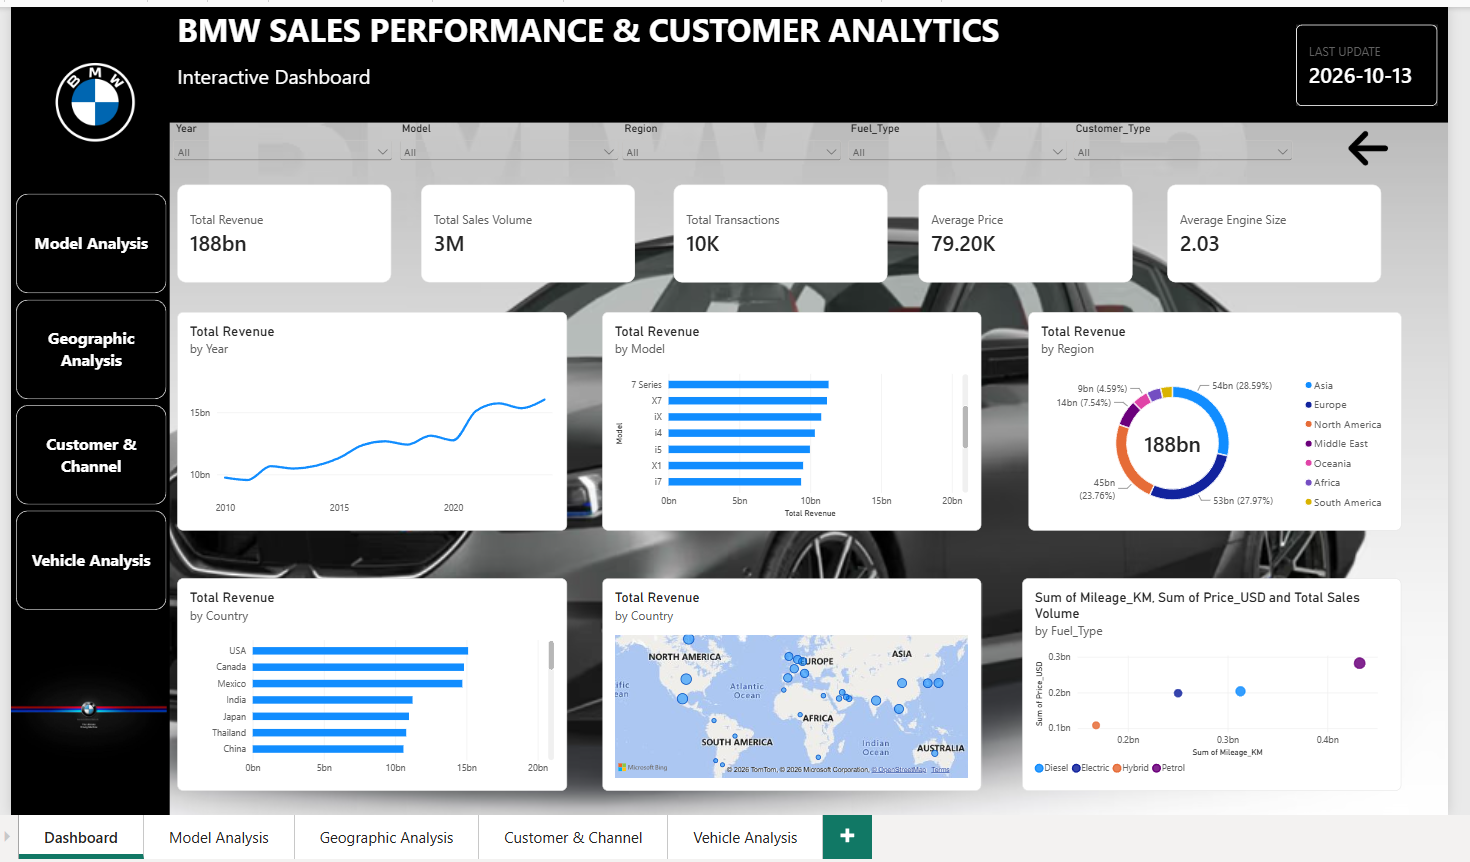

Layout of this report page (visuals, bound fields, positions):
{"tool":"powerbi","page":{"name":"Dashboard","canvas":[1920,1080],"ordinal":0},"visuals":[{"type":"textbox","box":[10,0,280,280],"z":0},{"type":"textbox","box":[0,0,1920.4,154.4],"z":1000},{"type":"textbox","box":[0,109.1,212,971.5],"z":2000},{"type":"textbox","box":[76.2,154.4,74.1,61.7],"z":3000},{"type":"slicer","fields":{"Values":["Date_Table.Year"]},"box":[212,154.4,302.6,61.7],"z":4000},{"type":"cardVisual","fields":{"Data":["measure.DATE"]},"box":[1716.6,22.6,189.4,109.1],"z":5000},{"type":"slicer","fields":{"Values":["BMW_Sales.Model"]},"box":[514.6,154.4,302.6,61.7],"z":6000},{"type":"slicer","fields":{"Values":["BMW_Sales.Region"]},"box":[811,154.4,302.6,61.7],"z":7000},{"type":"slicer","fields":{"Values":["BMW_Sales.Fuel_Type"]},"box":[1113.6,154.4,302.6,61.7],"z":8000},{"type":"slicer","fields":{"Values":["BMW_Sales.Customer_Type"]},"box":[1414.1,154.4,302.6,61.7],"z":9000},{"type":"cardVisual","fields":{"Data":["measure.Total Revenue"]},"box":[222.3,236.7,286.1,131.7],"z":10000},{"type":"cardVisual","fields":{"Data":["measure.Total Sales Volume"]},"box":[547.5,236.7,286.1,131.7],"z":11000},{"type":"cardVisual","fields":{"Data":["measure.Total Transactions"]},"box":[885.1,236.7,286.1,131.7],"z":12000},{"type":"cardVisual","fields":{"Data":["measure.Average Price"]},"box":[1212.4,236.7,286.1,131.7],"z":13000},{"type":"cardVisual","fields":{"Data":["measure.Average Engine Size"]},"box":[1543.7,236.7,286.1,131.7],"z":14000},{"type":"lineChart","fields":{"Y":["measure.Total Revenue"],"Category":["Date_Table.Year"]},"box":[222.3,407.5,520.8,292.3],"z":15000},{"type":"barChart","fields":{"Y":["measure.Total Revenue"],"Category":["BMW_Sales.Model"]},"box":[790.4,407.5,506.3,292.3],"z":16000},{"type":"donutChart","fields":{"Category":["BMW_Sales.Region"],"Y":["measure.Total Revenue"]},"box":[1358.5,407.5,498.1,292.3],"z":17000},{"type":"barChart","fields":{"Y":["measure.Total Revenue"],"Category":["BMW_Sales.Country"]},"box":[222.3,763.6,520.8,284],"z":18000},{"type":"scatterChart","fields":{"X":["Sum(BMW_Sales.Mileage_KM)"],"Y":["Sum(BMW_Sales.Price_USD)"],"Series":["BMW_Sales.Fuel_Type"],"Size":["measure.Total Sales Volume"]},"box":[1350.3,763.6,506.3,284],"z":19000},{"type":"map","fields":{"Category":["BMW_Sales.Country"],"Size":["measure.Total Revenue"]},"box":[790.4,763.6,506.3,284],"z":20000},{"type":"pageNavigator","box":[6.2,109.1,201.7,699.8],"z":21000},{"type":"image","box":[30.9,39.1,164.7,177],"z":22000},{"type":"image","box":[1747.5,162.6,129.7,53.5],"z":23000},{"type":"image","box":[0,846,207.9,183.2],"z":24000}]}

Visuals, with their boxes in screenshot pixels (x1, y1, x2, y2):
textbox: [11,0,223,211]
textbox: [4,0,1454,117]
textbox: [4,82,164,816]
textbox: [61,117,117,163]
slicer - Date_Table.Year: [164,117,392,163]
cardVisual - measure.DATE: [1300,17,1443,99]
slicer - BMW_Sales.Model: [392,117,621,163]
slicer - BMW_Sales.Region: [616,117,845,163]
slicer - BMW_Sales.Fuel_Type: [845,117,1073,163]
slicer - BMW_Sales.Customer_Type: [1072,117,1300,163]
cardVisual - measure.Total Revenue: [172,179,388,278]
cardVisual - measure.Total Sales Volume: [417,179,633,278]
cardVisual - measure.Total Transactions: [672,179,888,278]
cardVisual - measure.Average Price: [919,179,1135,278]
cardVisual - measure.Average Engine Size: [1169,179,1385,278]
lineChart - measure.Total Revenue x Date_Table.Year: [172,308,565,528]
barChart - measure.Total Revenue x BMW_Sales.Model: [601,308,983,528]
donutChart - BMW_Sales.Region x measure.Total Revenue: [1030,308,1406,528]
barChart - measure.Total Revenue x BMW_Sales.Country: [172,577,565,791]
scatterChart - Sum(BMW_Sales.Mileage_KM) x Sum(BMW_Sales.Price_USD): [1023,577,1406,791]
map - BMW_Sales.Country x measure.Total Revenue: [601,577,983,791]
pageNavigator: [9,82,161,611]
image: [27,30,152,163]
image: [1323,123,1421,163]
image: [4,639,161,777]
